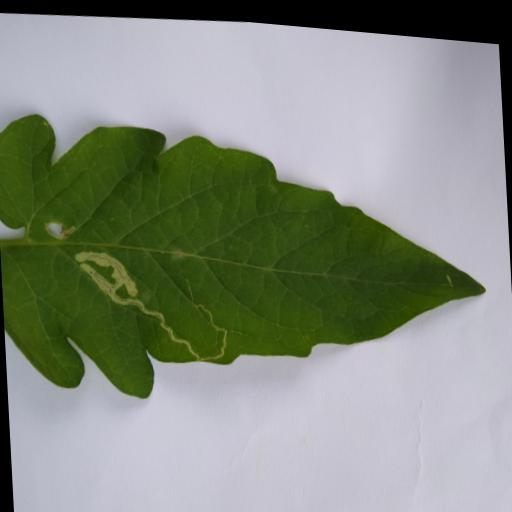Leaf_Miner: (59, 161, 252, 394)
